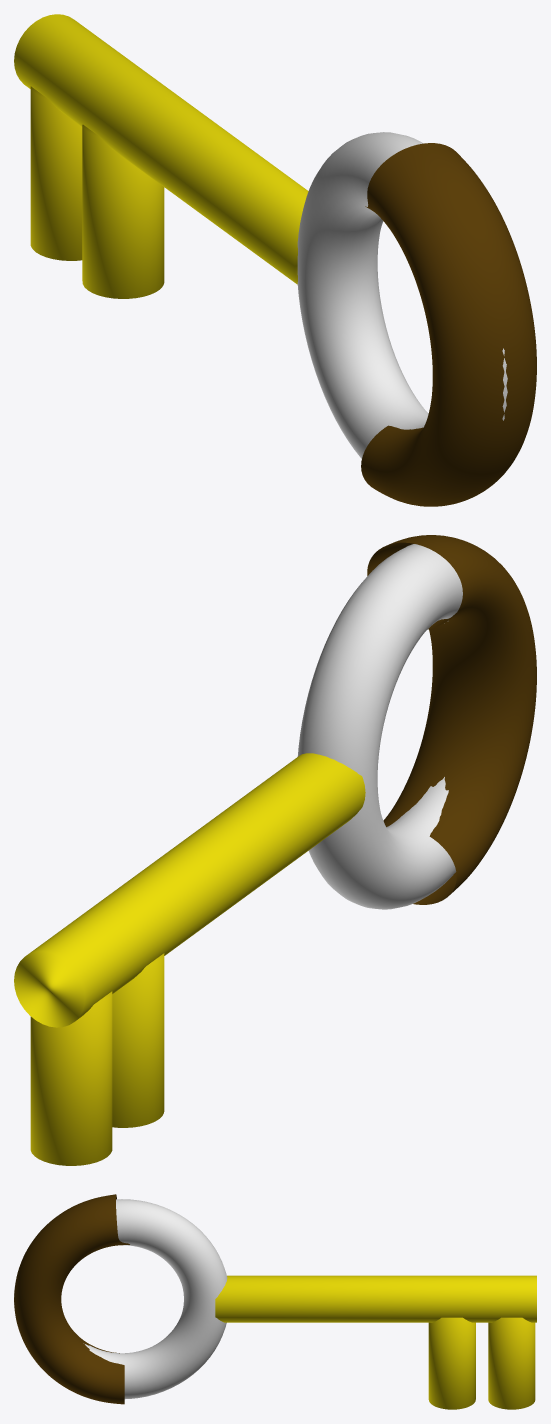
Rendered from key.fbx.
3 views of the same model, one above another, from view 1: azimuth 30°, elevation 25°; view 2: azimuth 150°, elevation 25°; view 3: azimuth 270°, elevation 25° (orthographic). The views are drawn at different scales.
Parts seen in each view (by area): view 1: Torus.001, Cylinder, Torus, Cylinder.002, Cylinder.001; view 2: Cylinder, Torus, Torus.001, Cylinder.001, Cylinder.002; view 3: Cylinder, Torus.001, Torus, Cylinder.001, Cylinder.002.
Part boxes in pixels (x1,y1,x2,y2): Torus.001: [361, 143, 536, 506]; Cylinder: [14, 14, 308, 284]; Torus: [297, 132, 507, 458]; Cylinder.002: [82, 124, 164, 298]; Cylinder.001: [30, 86, 82, 260]; Cylinder: [14, 753, 365, 1027]; Torus: [297, 544, 462, 909]; Torus.001: [367, 535, 536, 904]; Cylinder.001: [30, 991, 112, 1165]; Cylinder.002: [112, 953, 164, 1127]; Cylinder: [215, 1275, 536, 1322]; Torus.001: [14, 1194, 129, 1404]; Torus: [14, 1199, 227, 1399]; Cylinder.001: [488, 1317, 535, 1409]; Cylinder.002: [428, 1317, 475, 1409].
Size of the model in its own units: 65.34 by 230 by 539.
